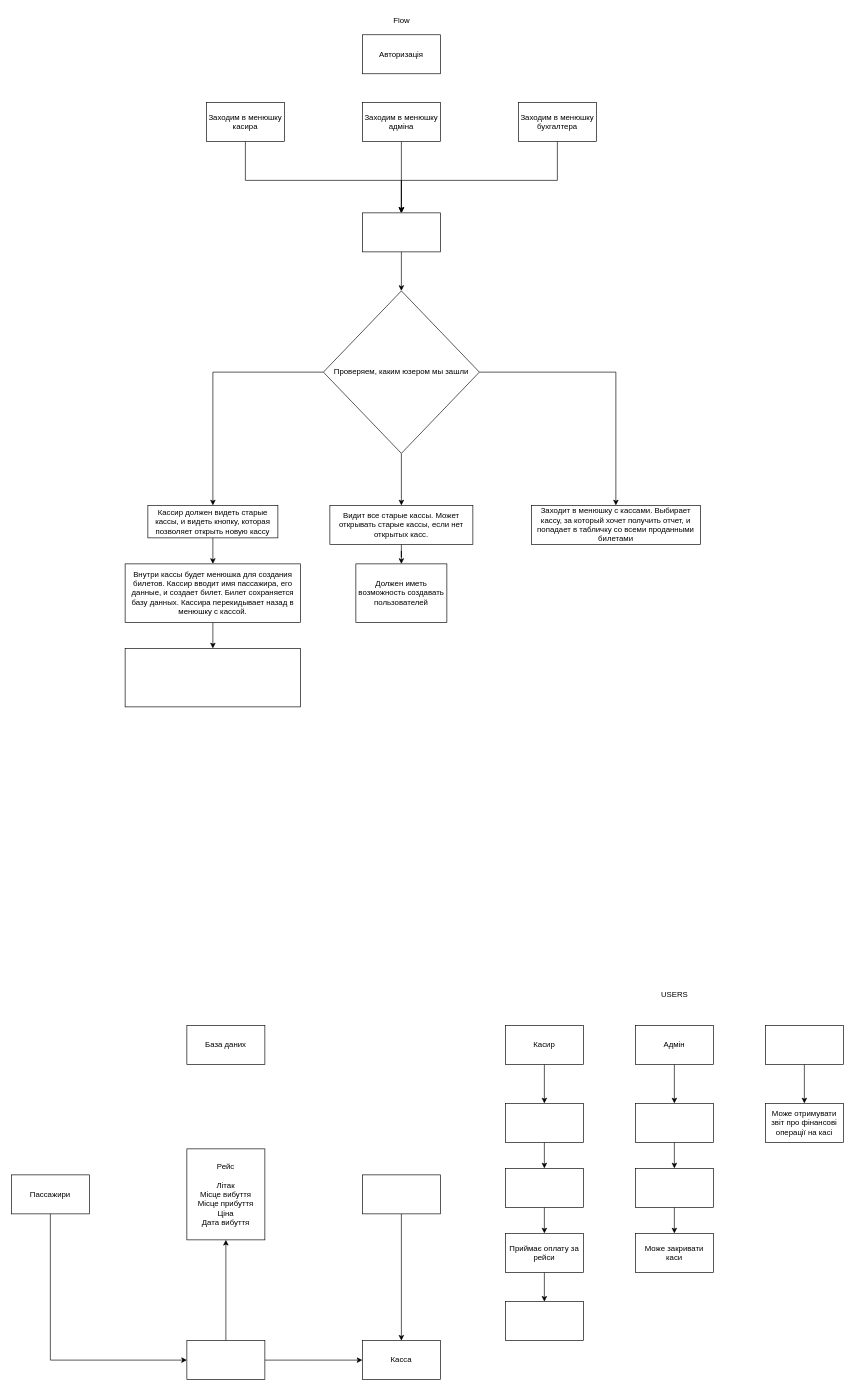
Image size: 855x1391. Some labels were removed from this diagram. Here are the shapes that lost their labels. From the top down, the box of each, then its label:
(362, 212, 440, 252): В менюшке должны показываться кассы
(124, 648, 301, 707): Кассир закрывает кассу, рабочий день закончен.
(765, 1025, 843, 1064): Бухгалтер
(505, 1103, 583, 1142): Відкриває нову касу
(635, 1103, 713, 1142): Створює користувачів
(362, 1174, 440, 1214): Користувачі
(505, 1168, 583, 1207): Бронює Рейс
(635, 1168, 713, 1207): Може відкривати каси знову.
(505, 1301, 583, 1341): Закриває касу
(186, 1340, 265, 1380): Квиток
